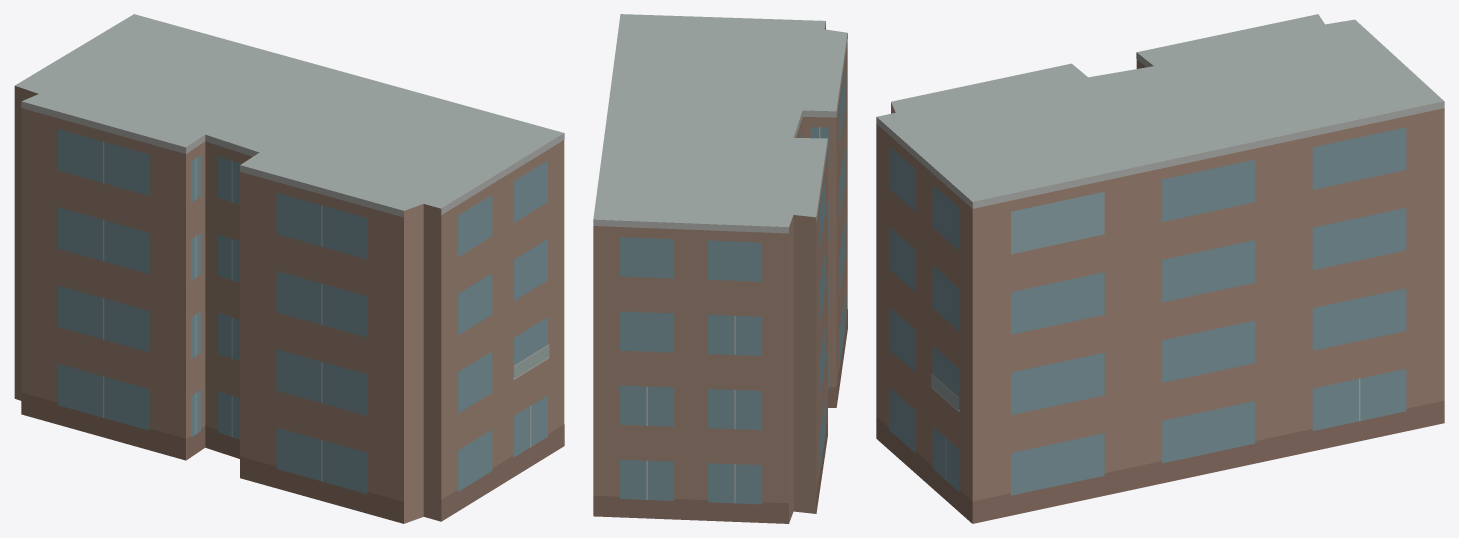
The model's file is survey-upis-32742241.glb.
3 views of the same model, side by side, from view 1: azimuth 30°, elevation 25°; view 2: azimuth 150°, elevation 25°; view 3: azimuth 270°, elevation 25° (orthographic). The views are drawn at different scales.
Visible parts, largest first — view 1: survey-upis-32742241.tmp; view 2: survey-upis-32742241.tmp; view 3: survey-upis-32742241.tmp.
Part boxes in pixels (left/top/right/bottom): survey-upis-32742241.tmp: left=14, top=14, right=564, bottom=523; survey-upis-32742241.tmp: left=593, top=14, right=847, bottom=523; survey-upis-32742241.tmp: left=876, top=14, right=1444, bottom=523.
Size of the model in its own units: 14.42 by 11.5 by 18.41.
